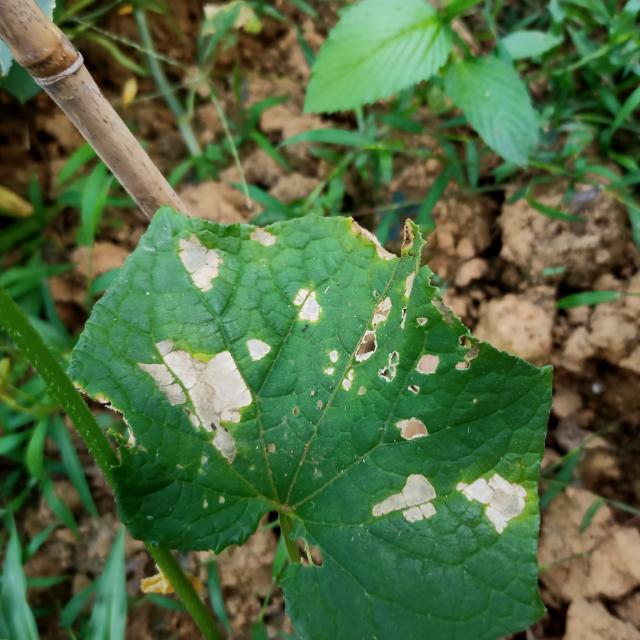disease_cucumber: (147, 220, 322, 470), (324, 289, 464, 440), (358, 440, 532, 546)
